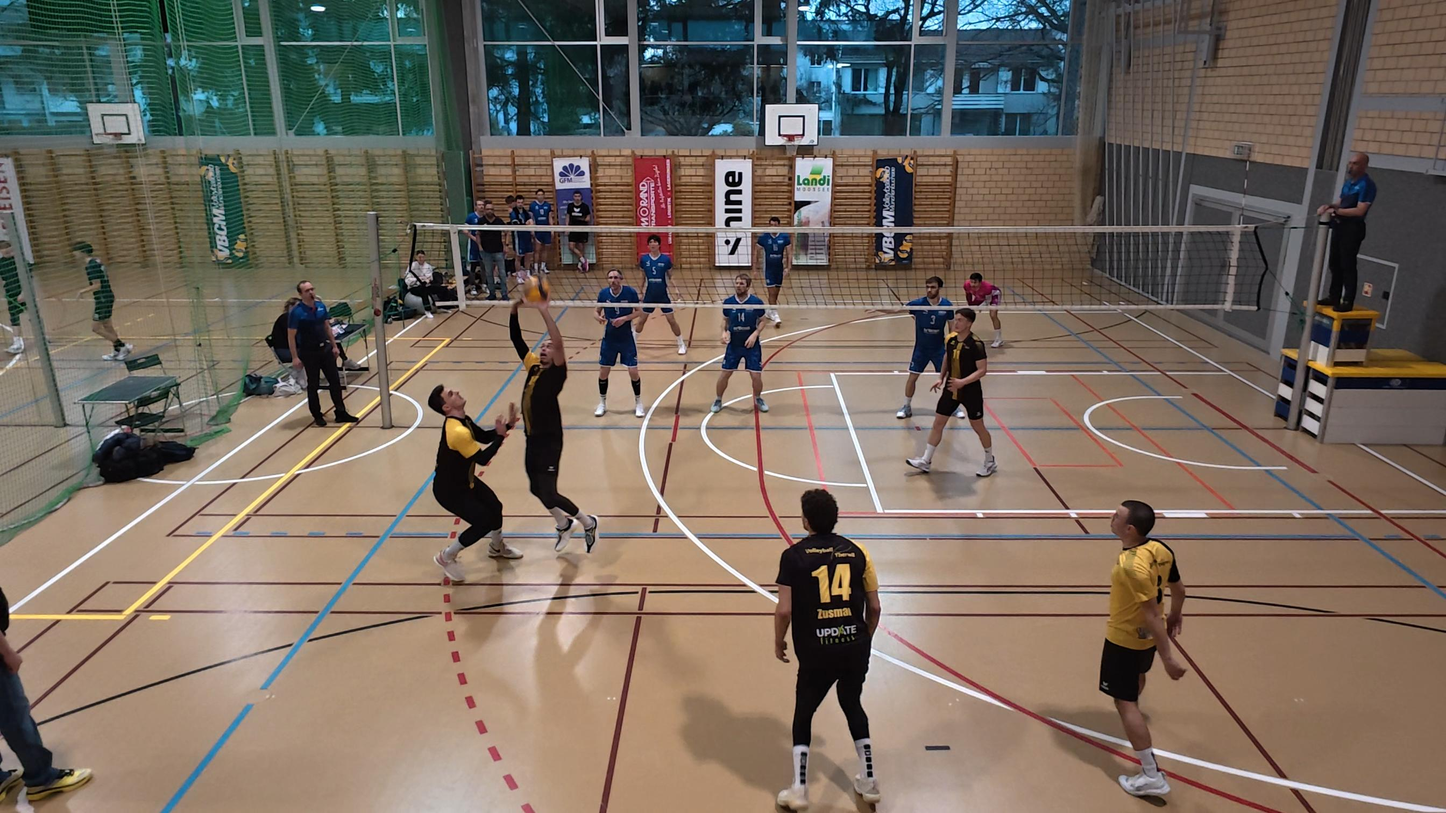Player: (774, 488, 881, 811), (1098, 499, 1186, 799), (432, 387, 522, 582), (906, 310, 997, 478), (882, 275, 954, 420), (705, 275, 770, 413), (593, 269, 646, 418), (634, 236, 686, 356), (753, 215, 793, 326), (961, 271, 1006, 346)
Set: (508, 293, 601, 559)
ball: (518, 276, 552, 303)
